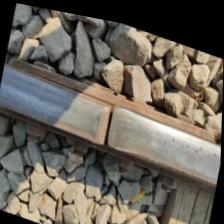person: (71, 75, 151, 164)
